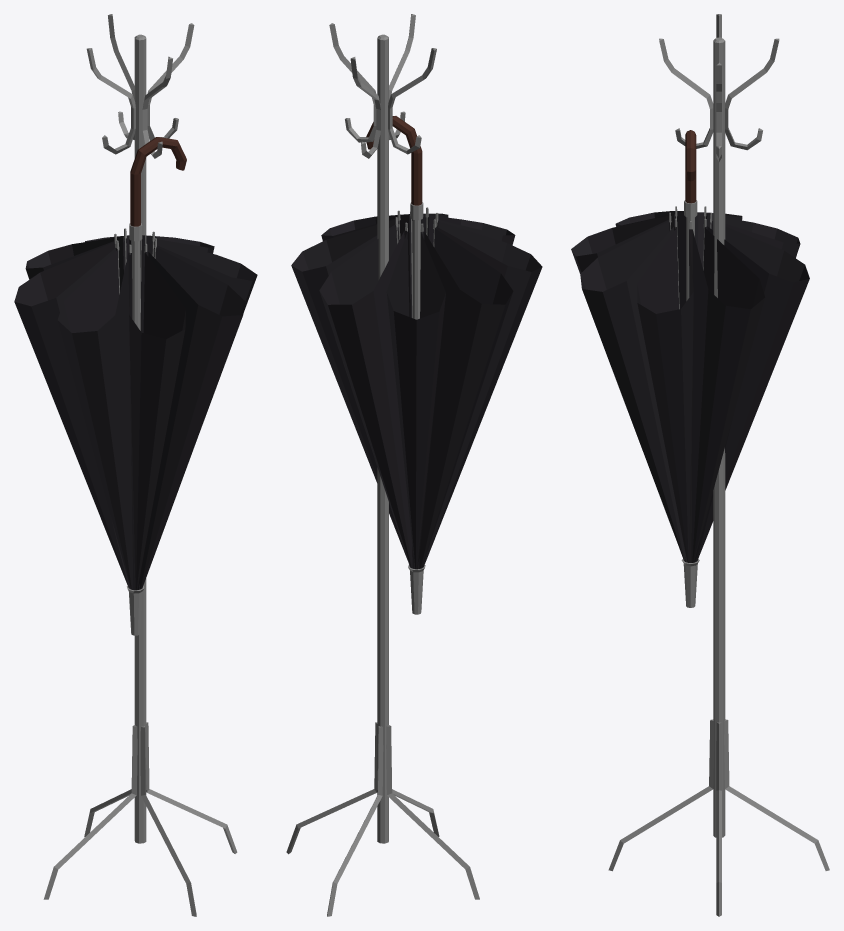
The model's file is Umbrella Stand.fbx.
3 views of the same model, side by side, from view 1: azimuth 30°, elevation 25°; view 2: azimuth 150°, elevation 25°; view 3: azimuth 270°, elevation 25° (orthographic).
Parts seen in each view (by area): view 1: Umbrella Stand; view 2: Umbrella Stand; view 3: Umbrella Stand.
Boxes of the visible parts, bbox=[...] form: Umbrella Stand: bbox=[14, 14, 257, 916]; Umbrella Stand: bbox=[286, 14, 542, 916]; Umbrella Stand: bbox=[571, 14, 829, 916].
Bounding box in the file's own units: 68.66 × 249 × 70.35.
